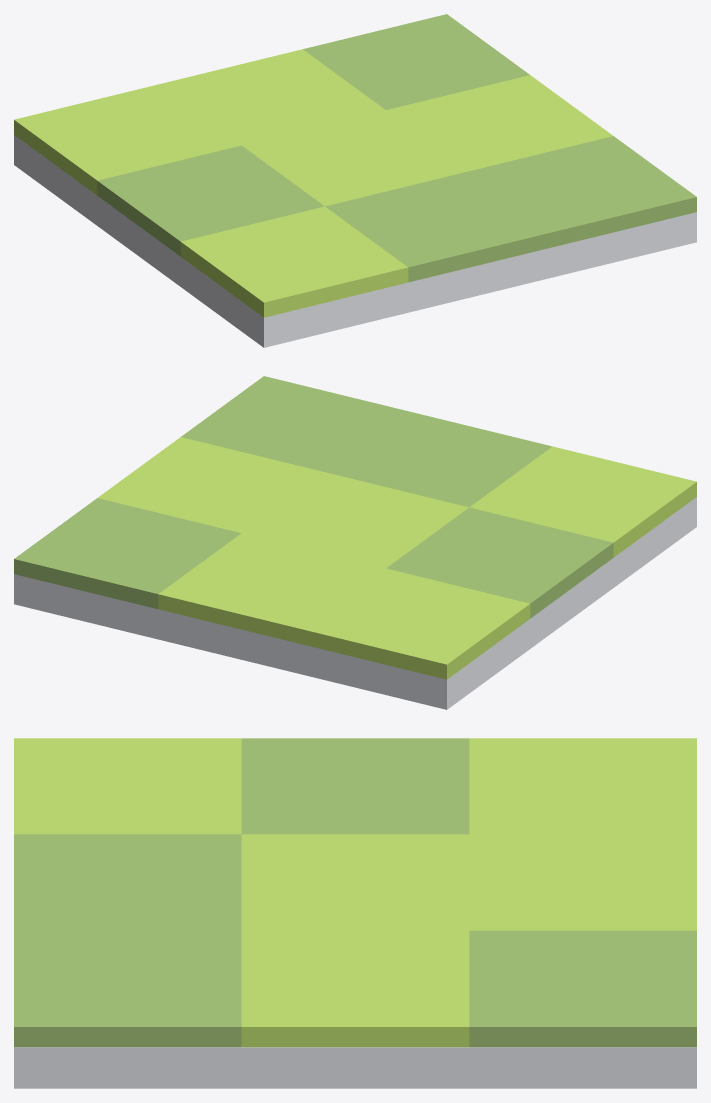
File: green.fbx
The picture shows the model from 3 angles, top to bottom: view 1: azimuth 30°, elevation 25°; view 2: azimuth 150°, elevation 25°; view 3: azimuth 270°, elevation 25°; orthographic projection. The views are drawn at different scales.
Visible parts, largest first — view 1: mergedBlocks_custom13(Clone)_0.001; view 2: mergedBlocks_custom13(Clone)_0.001; view 3: mergedBlocks_custom13(Clone)_0.001.
Part boxes in pixels (box(x1,y1,x2,y2)): mergedBlocks_custom13(Clone)_0.001: box(14, 14, 696, 347); mergedBlocks_custom13(Clone)_0.001: box(14, 376, 696, 709); mergedBlocks_custom13(Clone)_0.001: box(14, 738, 696, 1088).
Size of the model in its own units: 3000 by 300 by 3000.
